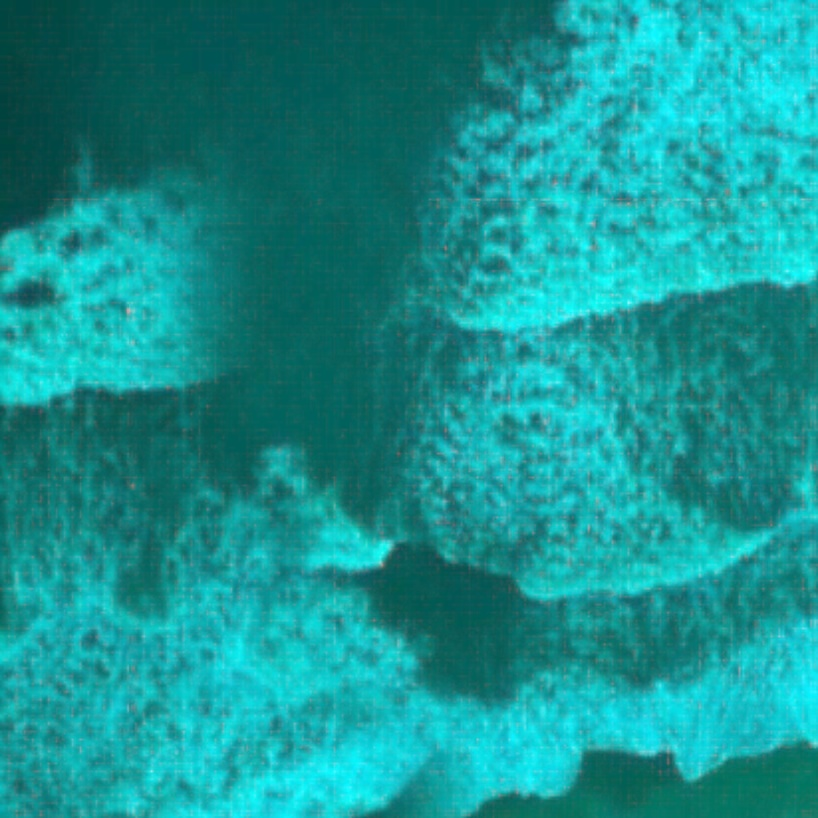rip_current: (121, 116, 538, 633)
